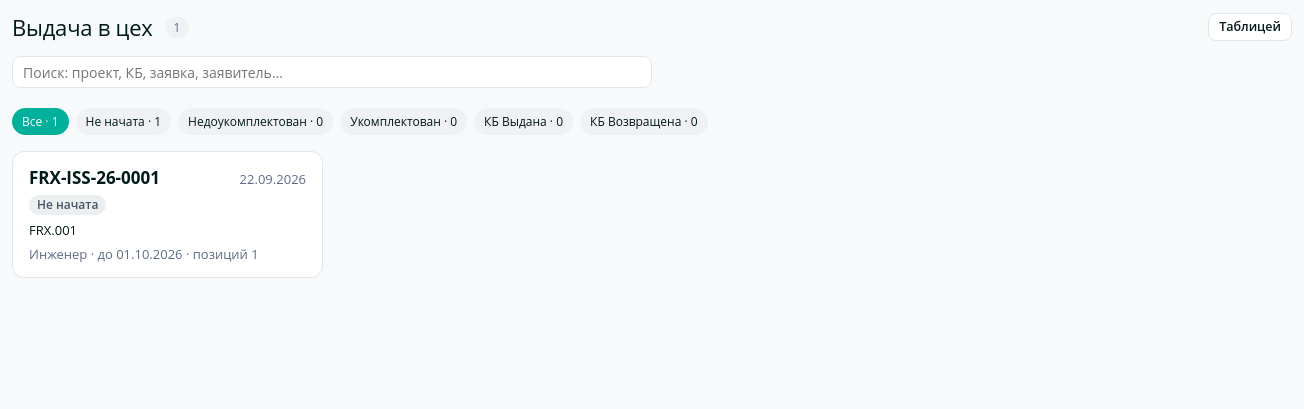
Test case: does not load lots or show editing actions to a view-only grant
This screenshot has width=1304, height=409.
Click the text "FRX-ISS-26-0001" at (94, 178), box left=29, top=166, right=160, bottom=189
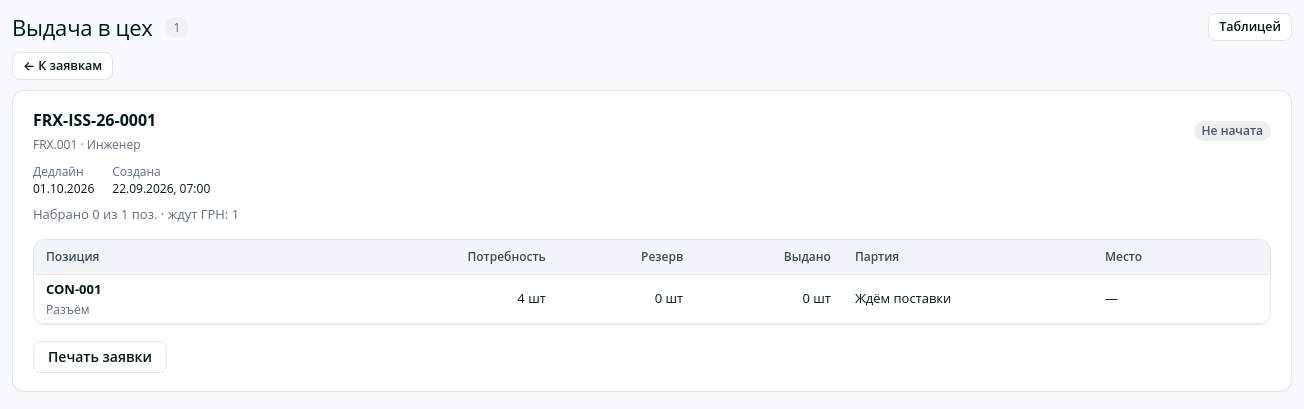
Check: the text "Ждём поставки" is shown, box left=843, top=275, right=1093, bottom=324
